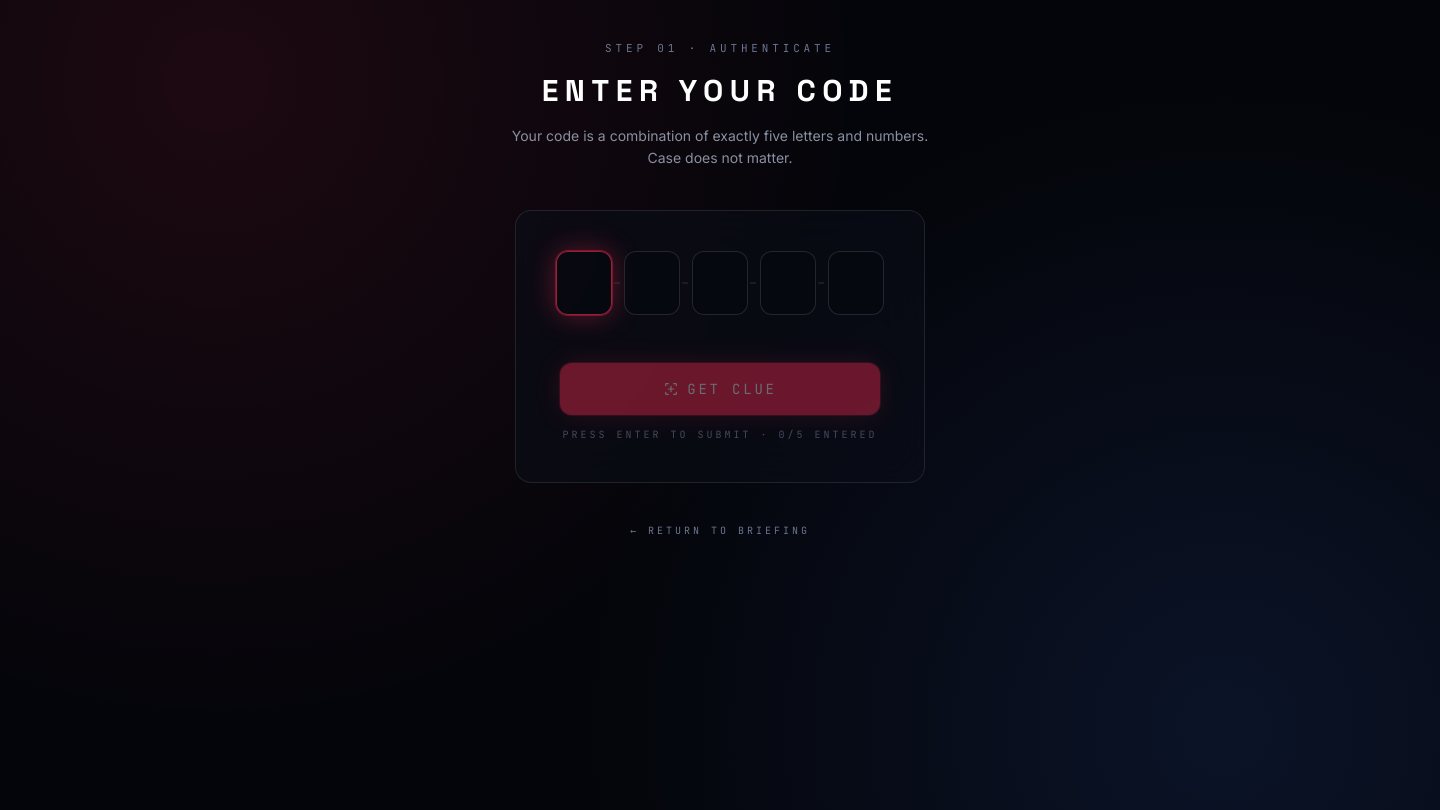
Test: Enter code page › keeps GET CLUE disabled until all five characters are entered
Expected: the button "Get Clue" is disabled, [560, 363, 880, 415]
Type "a" into the field named "Code character 1" at (584, 283), box [556, 251, 612, 315]
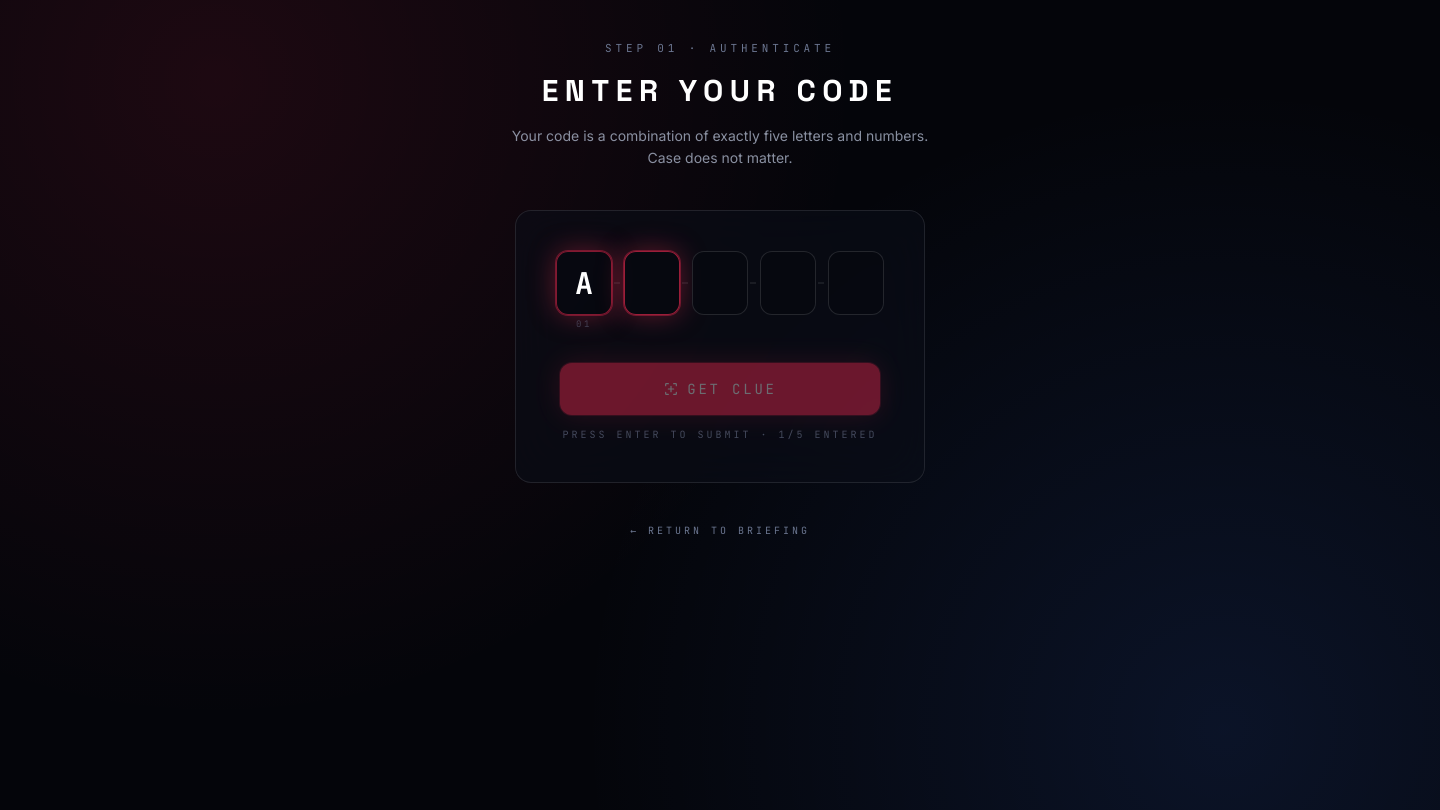
Type "7" into the field named "Code character 2" at (652, 283), box [624, 251, 680, 315]
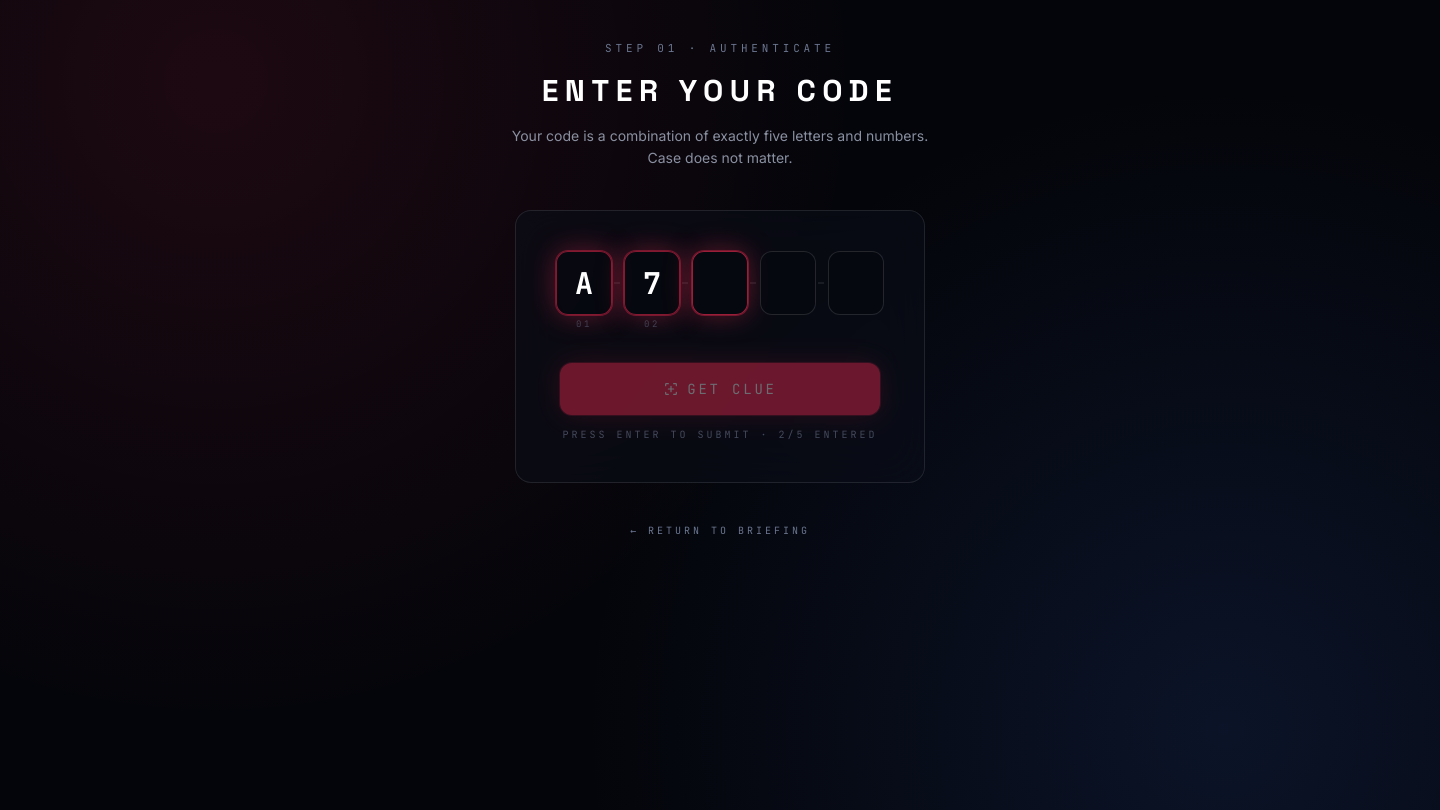
Type "b" into the field named "Code character 3" at (720, 283), box [692, 251, 748, 315]
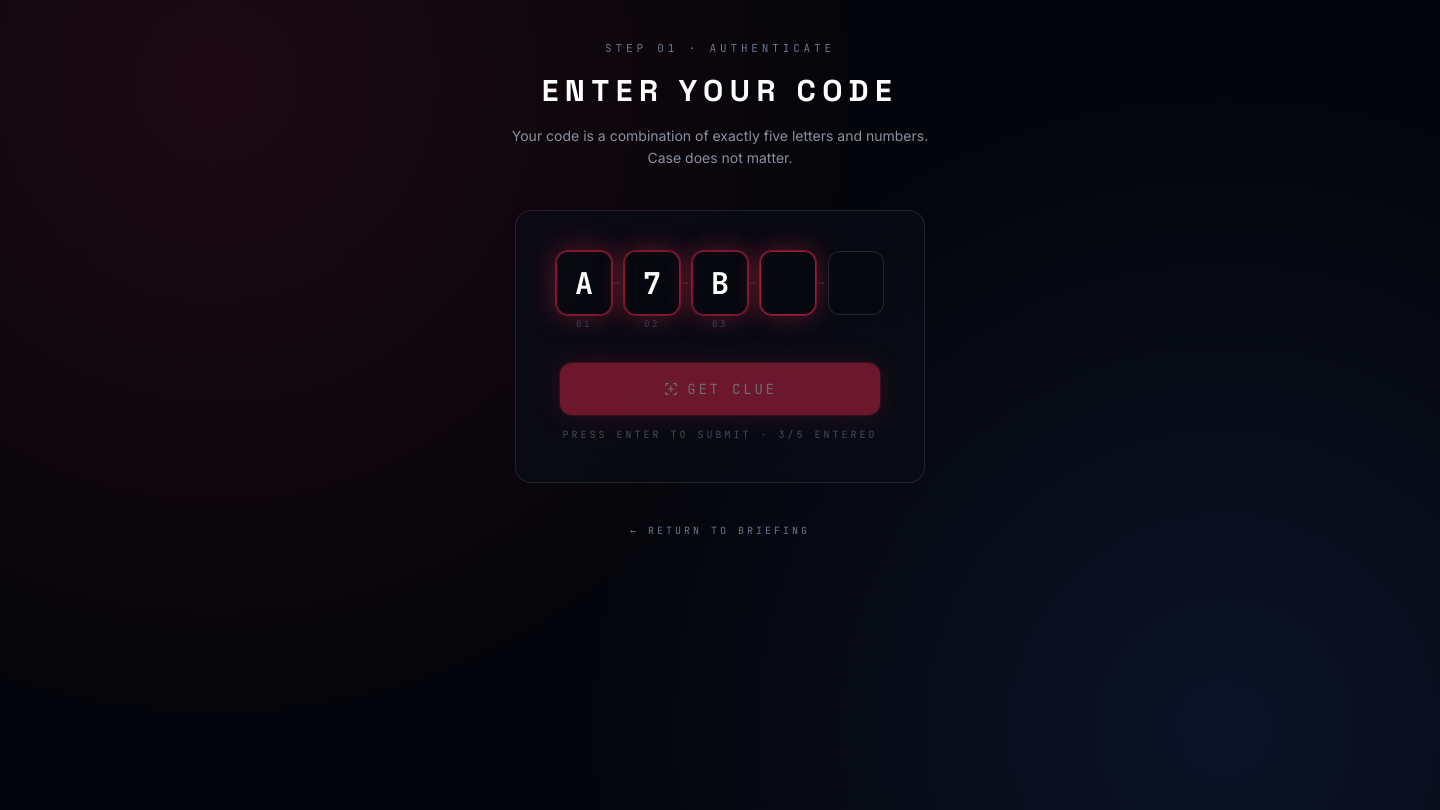
Type "2" into the field named "Code character 4" at (788, 283), box [760, 251, 816, 315]
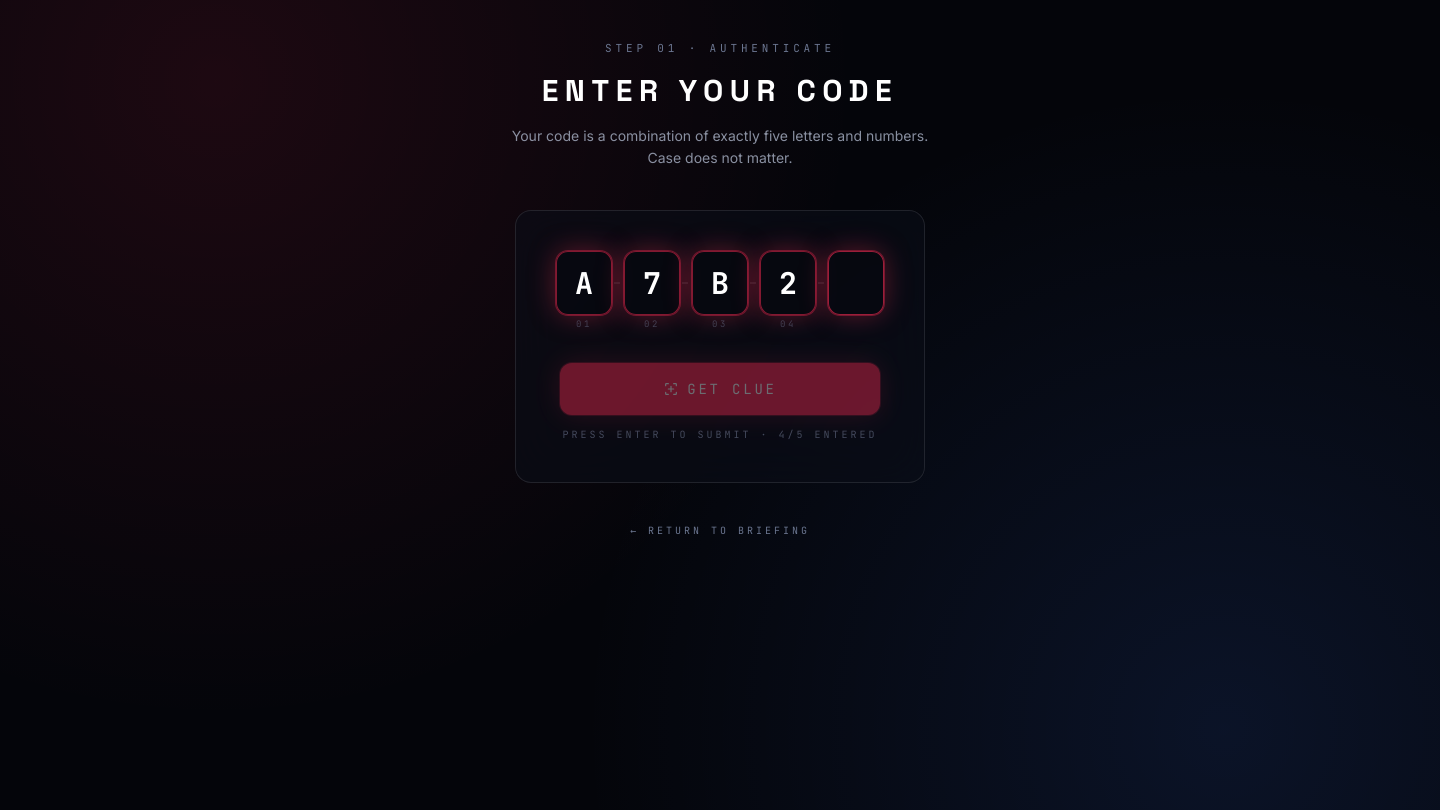
Expected: the button "Get Clue" is disabled, [560, 363, 880, 415]
Type "c" into the field named "Code character 5" at (856, 283), box [828, 251, 884, 315]
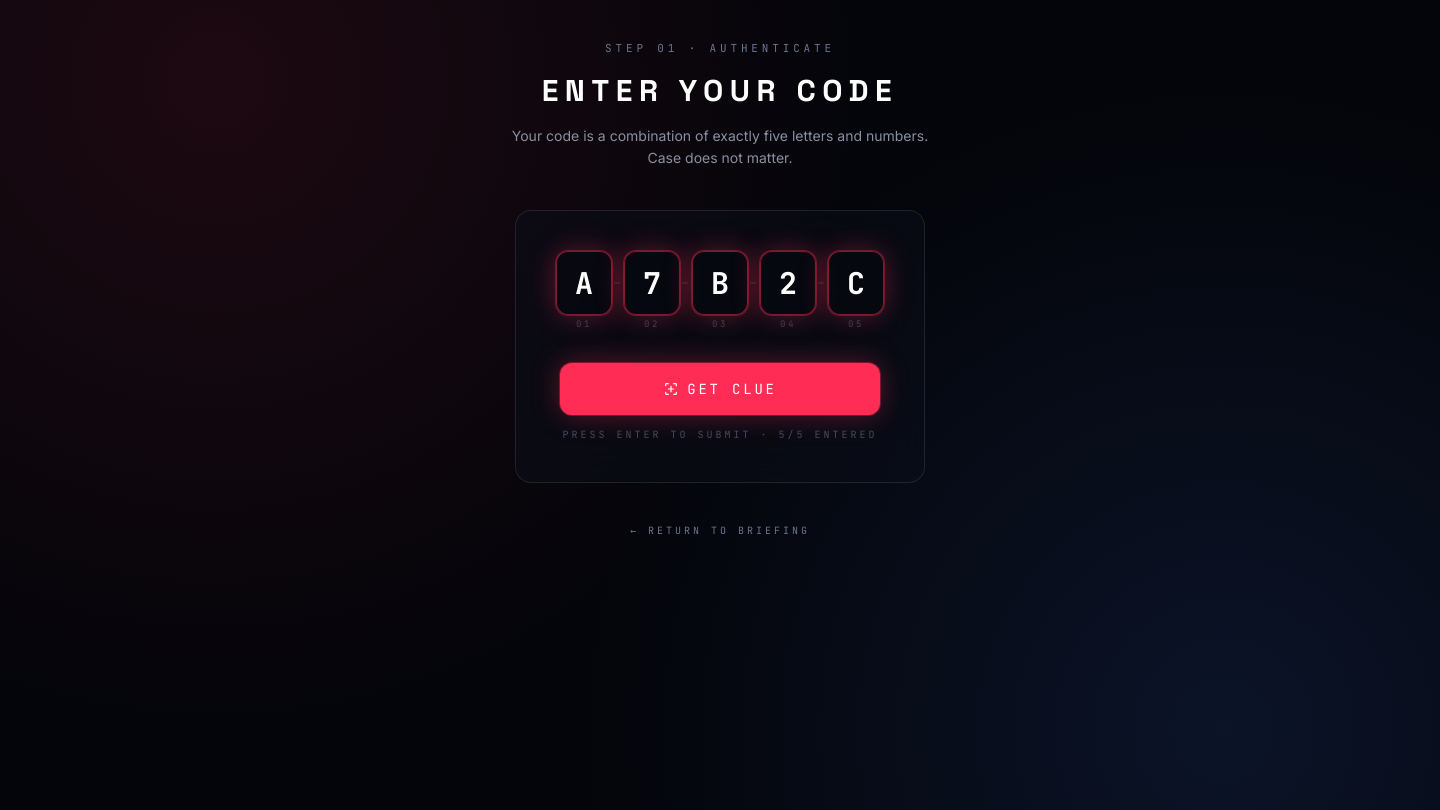
Result: the button "Get Clue" is enabled at [560, 363, 880, 415]
